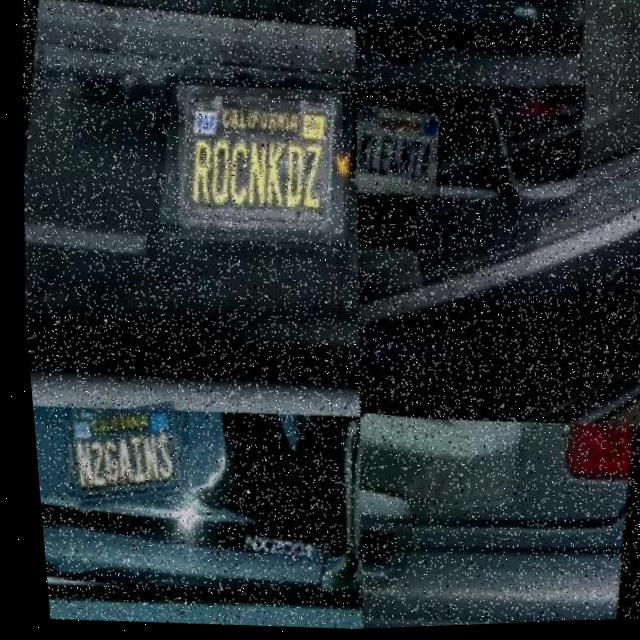LicensePlate: (164, 81, 350, 250), (49, 398, 187, 514), (343, 414, 474, 525), (350, 100, 437, 200)
